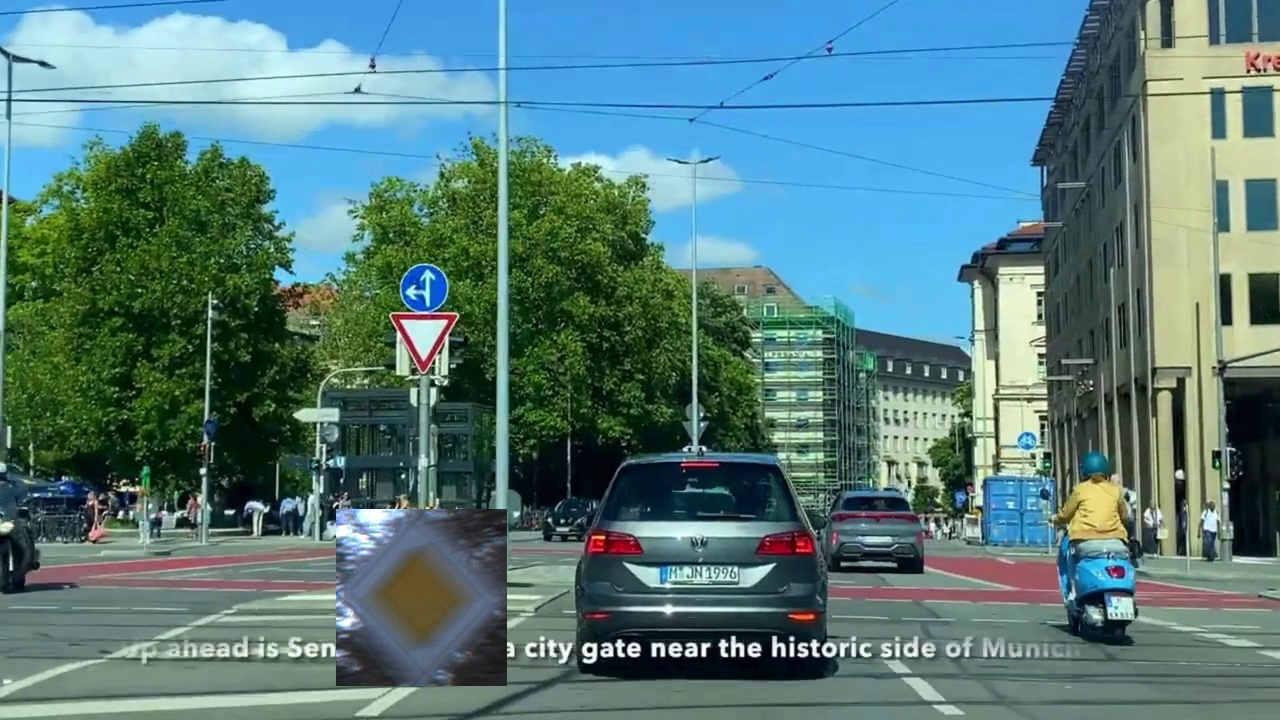Priority road: (336, 509, 507, 686)
